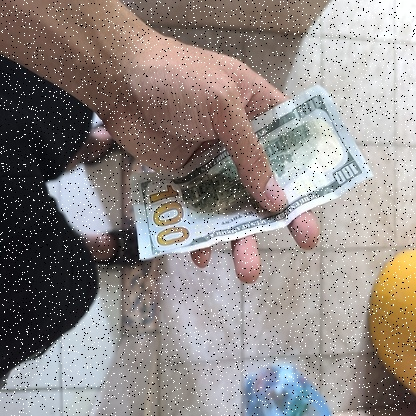one_hundred-back: (130, 84, 375, 262)
